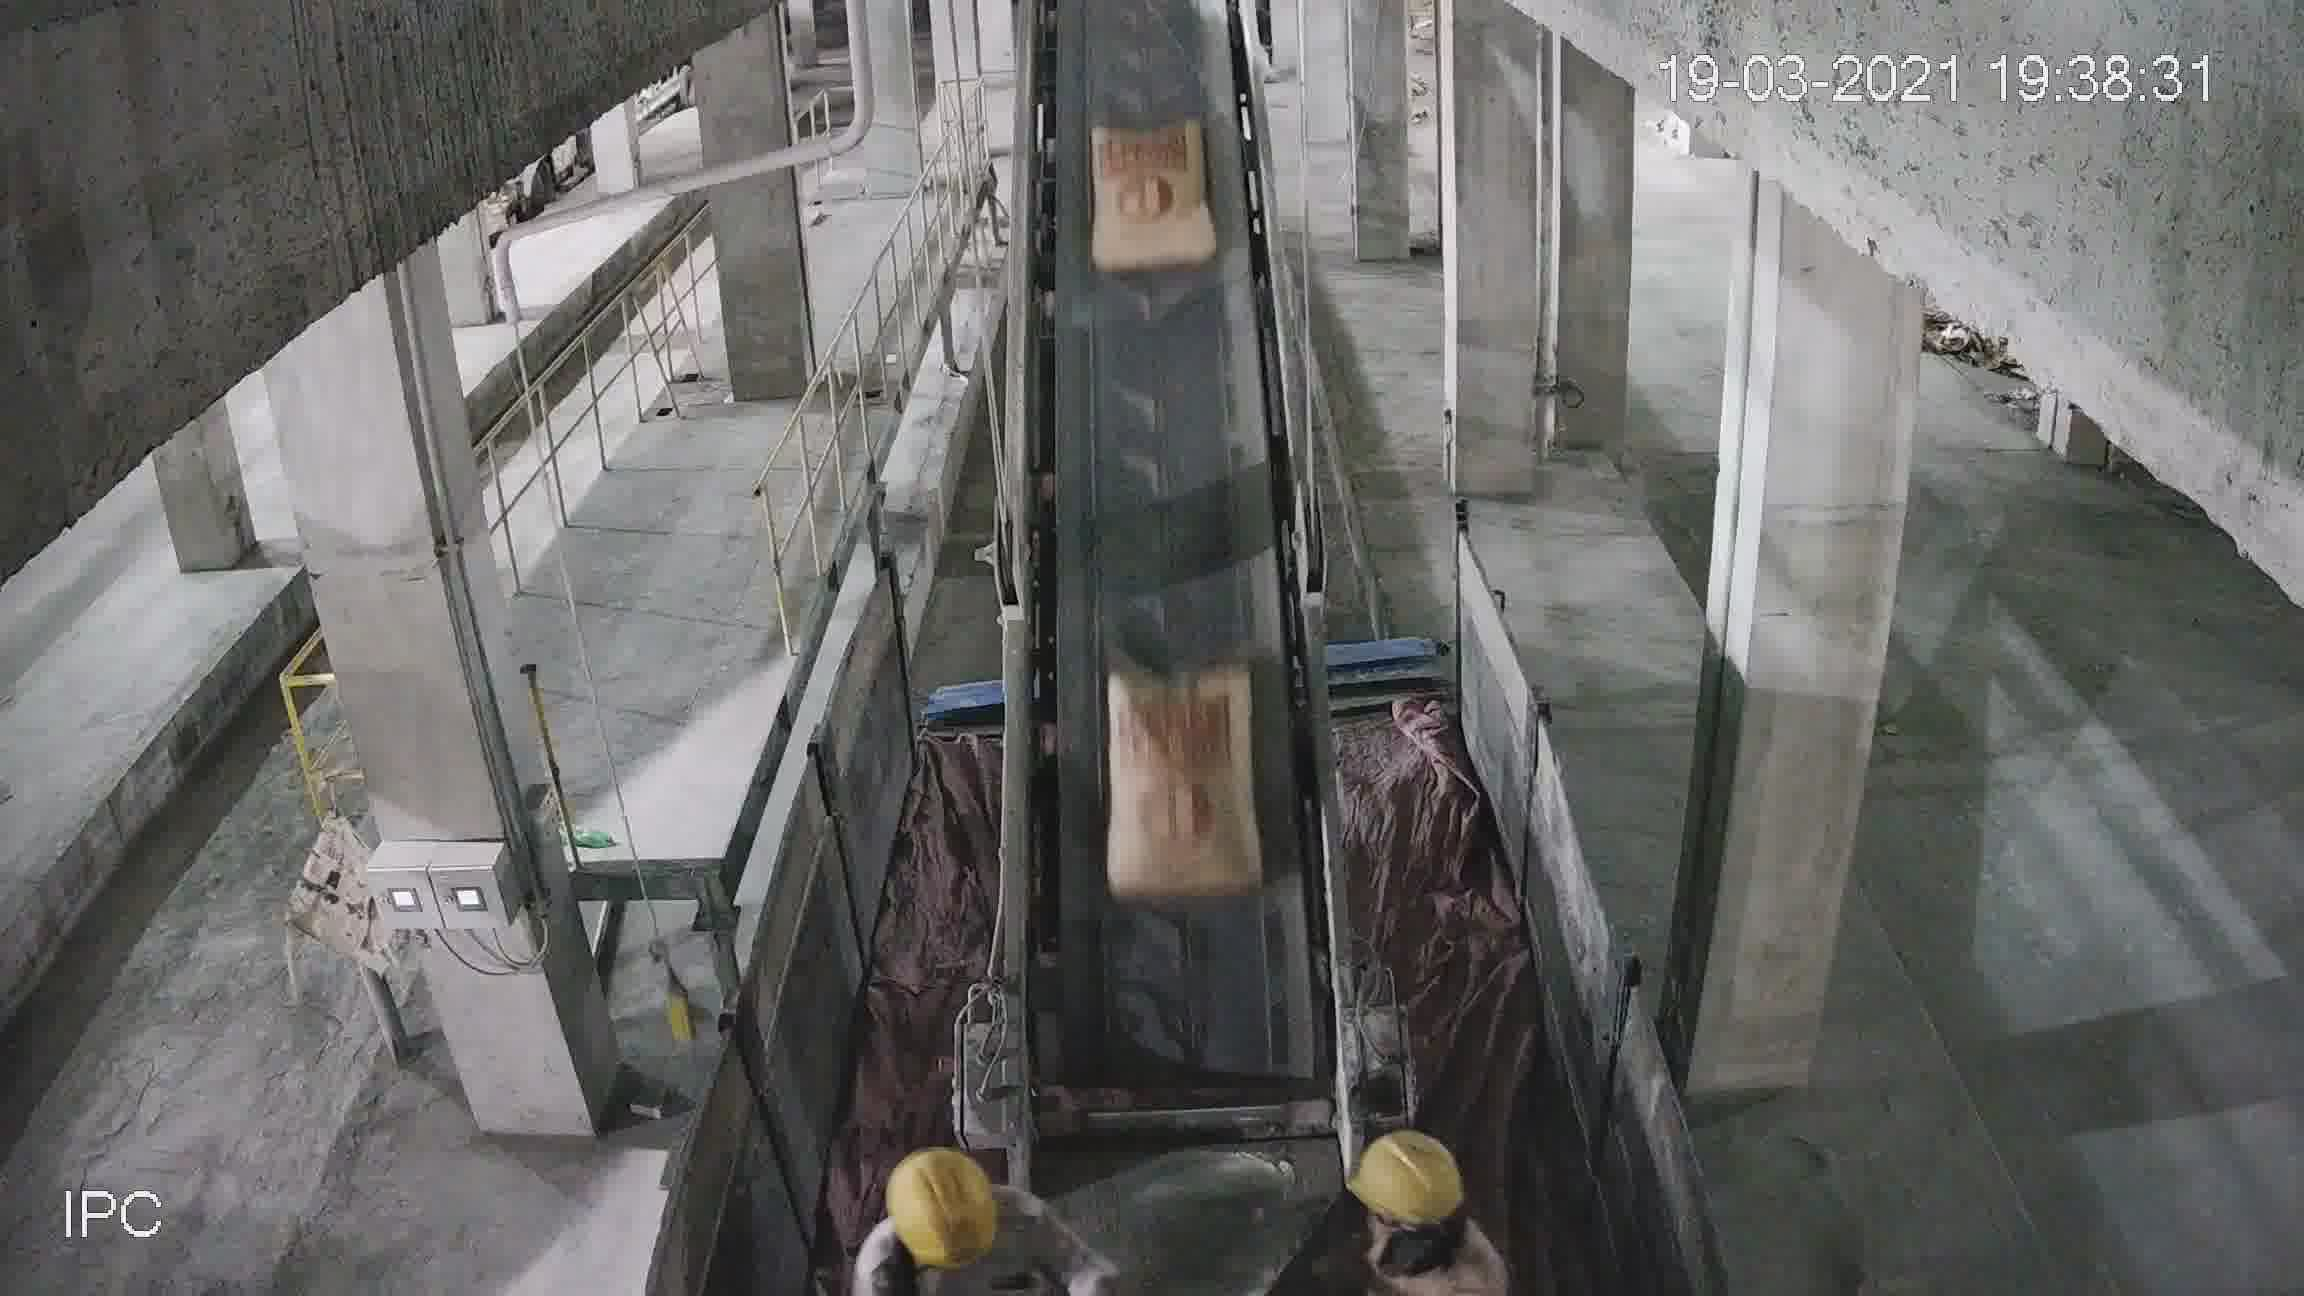bag: (1098, 676, 1260, 900), (1092, 127, 1211, 271)
belt: (994, 11, 1381, 1160)
